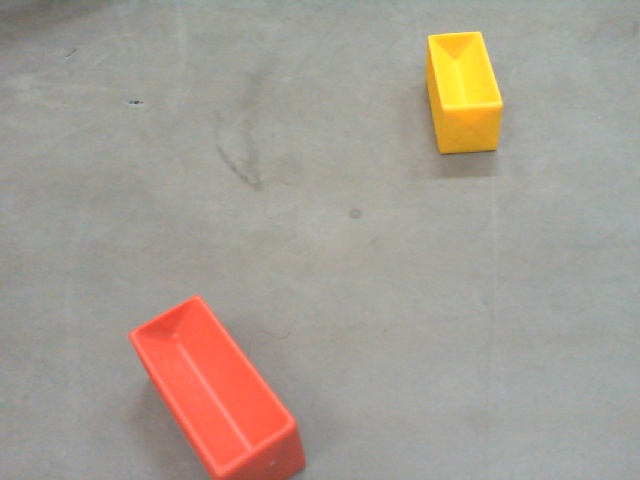RedSample: (125, 291, 313, 480)
YellowSample: (422, 28, 502, 159)
